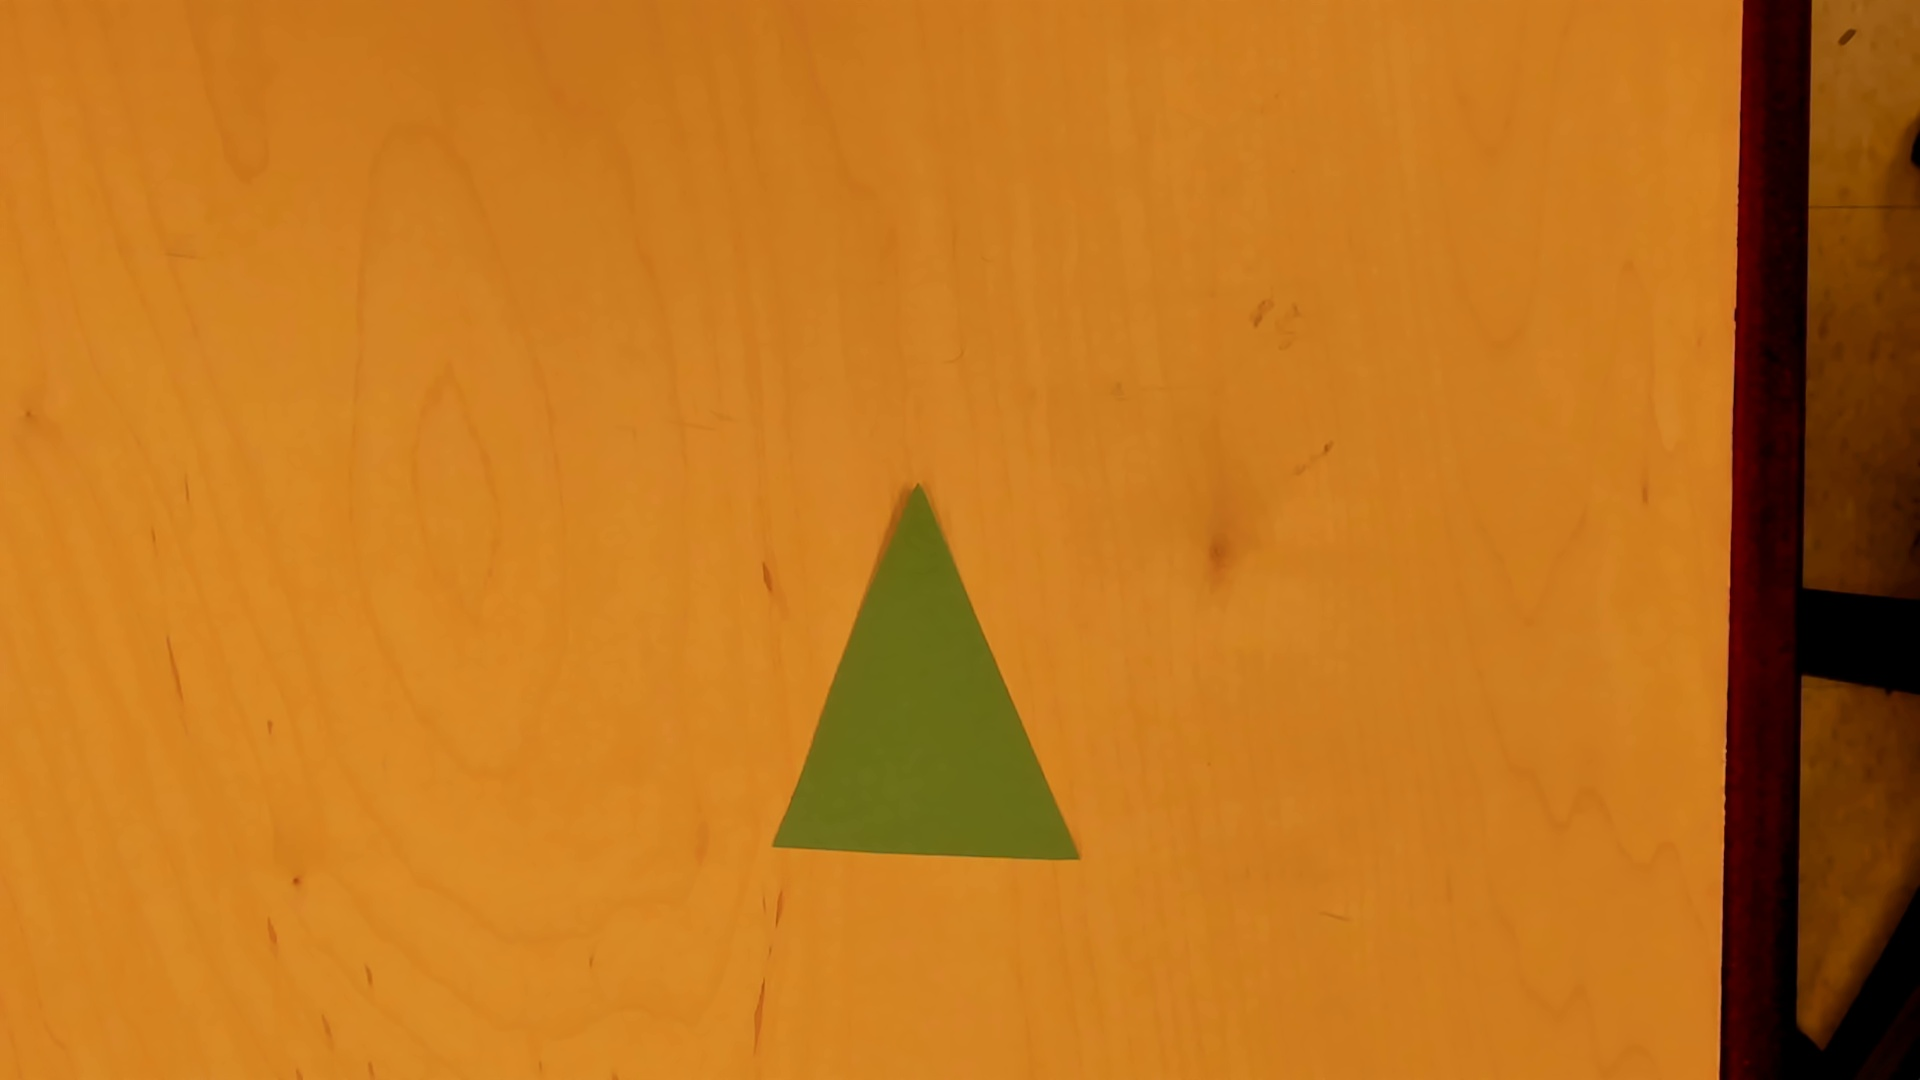GT: (764, 480, 1093, 870)
